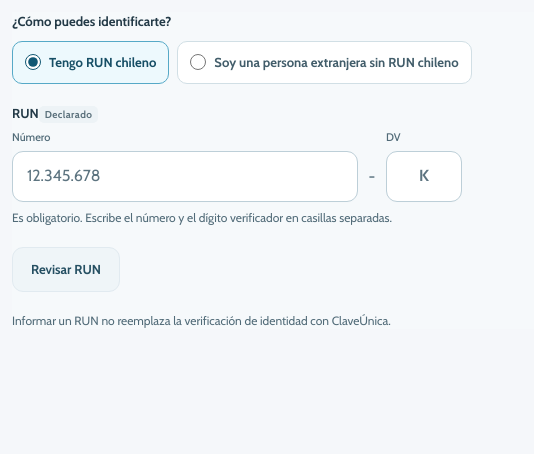
Test: RUN automático sin consultas en cada pulsación › si otro tab cambia la identidad, no adopta su proyección como respuesta del RUN escrito
In the field labelled "RUN": [185, 177] box [12,151,358,202], type "12345678"
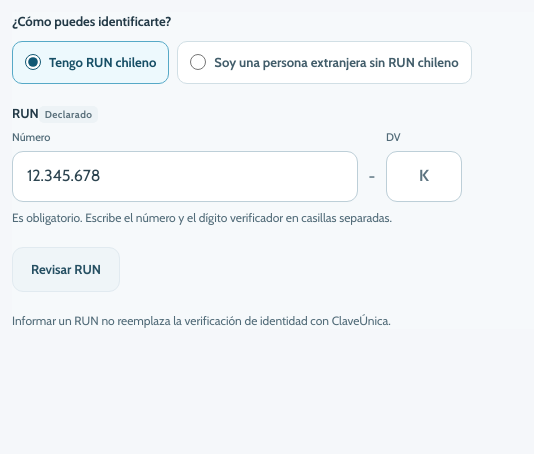
In the field named "Dígito verificador del RUN": [424, 177] box [386,151,462,202], type "5"
Wait 3650 ms
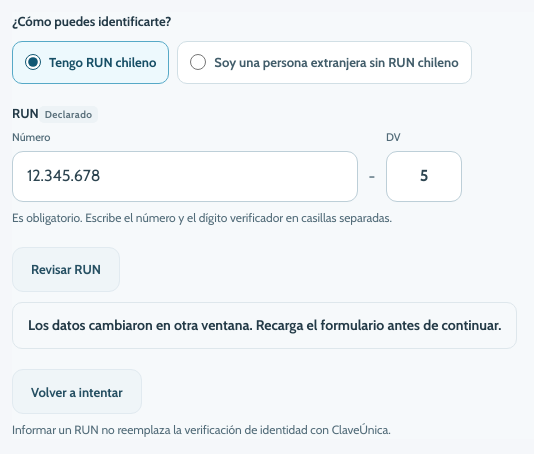
Expected: the text "Los datos cambiaron en otra ventana. Recarga el formulario antes de continuar." is shown, [12,302,517,349]
